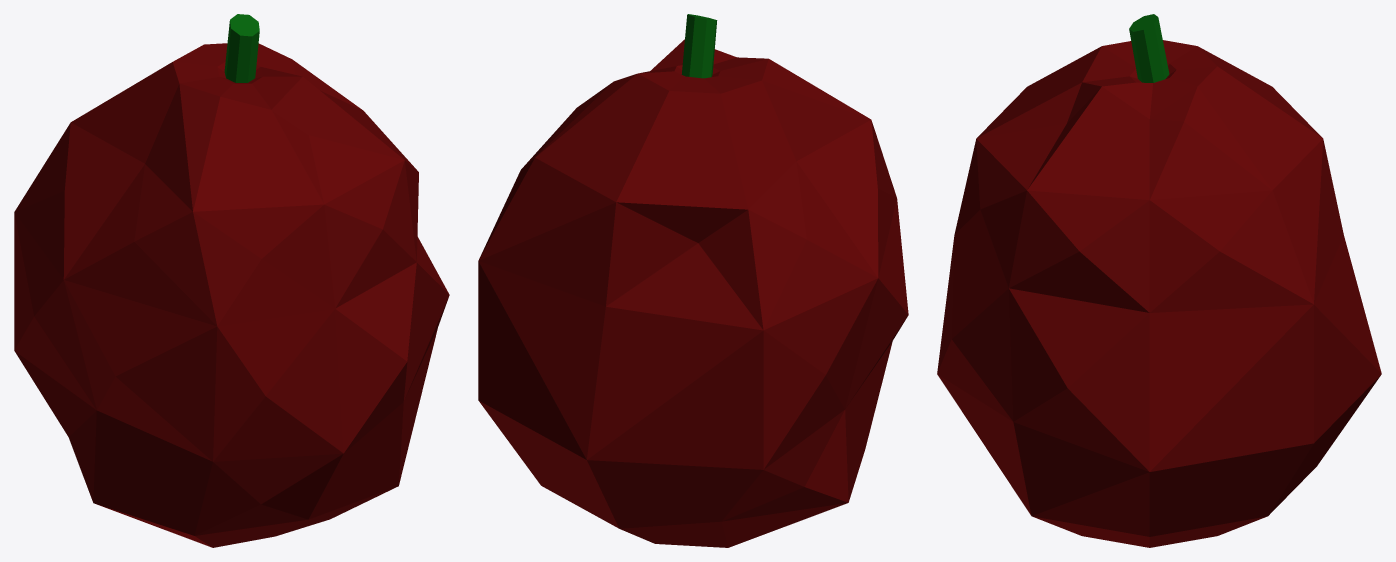
Rendered from passionfruit03.gltf.
3 views of the same model, side by side, from view 1: azimuth 30°, elevation 25°; view 2: azimuth 150°, elevation 25°; view 3: azimuth 270°, elevation 25° (orthographic).
Visible parts, largest first — view 1: Cylinder; view 2: Cylinder; view 3: Cylinder.
Part boxes in pixels (bbox=[...]): Cylinder: bbox=[14, 14, 449, 547]; Cylinder: bbox=[478, 14, 908, 547]; Cylinder: bbox=[937, 14, 1381, 547].
Bounding box in the file's own units: 0.0517 × 0.0648 × 0.053.
Materials: 1 (1 with a texture image).
